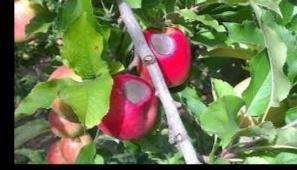rotten apple: (93, 71, 161, 139), (128, 30, 197, 87)
